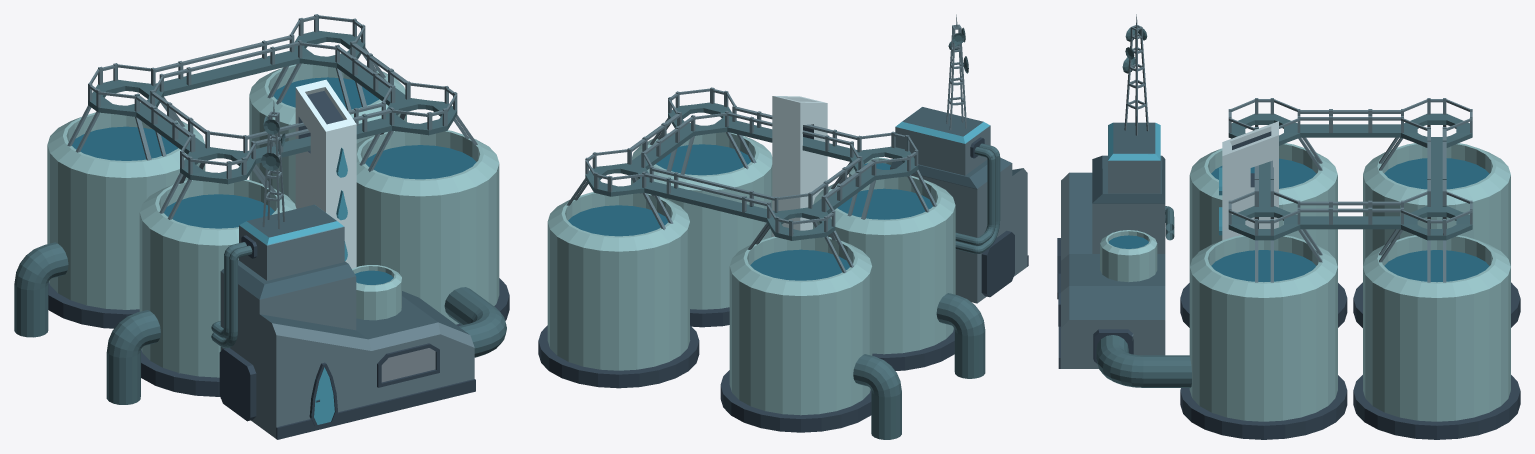
The model's file is Water Treatment Building.fbx.
3 renders of one model, left to right at view 1: azimuth 30°, elevation 25°; view 2: azimuth 150°, elevation 25°; view 3: azimuth 270°, elevation 25°, orthographic. The views are drawn at different scales.
Parts seen in each view (by area): view 1: Cube.003, Cylinder.001, Cube.002, Cylinder.002, Cylinder, Cube.001, Cylinder.003, Cylinder.007, Cylinder.006, Cylinder.005, Cylinder.004, Cube.004 (+3 smaller); view 2: Cylinder.003, Cylinder.002, Cube.002, Cylinder, Cube.003, Cylinder.001, Cube.001, Cylinder.006, Cylinder.007, decorative pipe 1.002, radio tower.001, decorative pipe 1.001; view 3: Cylinder.003, Cylinder.001, Cube.003, Cube.002, Cylinder.002, Cylinder, Cube.001, Cylinder.005, Cylinder.004, radio tower.001.
Boxes of the visible parts, x1,y1,x2,y2 form: Cube.003: [219, 204, 475, 439]; Cylinder.001: [356, 130, 509, 326]; Cube.002: [67, 14, 477, 219]; Cylinder.002: [47, 112, 205, 328]; Cylinder: [139, 179, 296, 396]; Cube.001: [295, 79, 356, 268]; Cylinder.003: [249, 63, 406, 205]; Cylinder.007: [14, 242, 68, 337]; Cylinder.006: [106, 310, 160, 404]; Cylinder.005: [444, 287, 506, 357]; Cylinder.004: [352, 265, 401, 320]; Cube.004: [309, 362, 337, 426]; Cylinder.003: [538, 192, 699, 388]; Cylinder.002: [720, 236, 872, 432]; Cube.002: [566, 87, 936, 272]; Cylinder: [813, 176, 955, 370]; Cube.003: [847, 107, 1028, 303]; Cylinder.001: [631, 132, 772, 327]; Cube.001: [772, 96, 827, 236]; Cylinder.006: [936, 293, 985, 378]; Cylinder.007: [853, 354, 901, 439]; decorative pipe 1.002: [955, 147, 995, 245]; radio tower.001: [946, 14, 966, 130]; decorative pipe 1.001: [955, 143, 1000, 253]; Cylinder.003: [1353, 235, 1520, 439]; Cylinder.001: [1180, 235, 1347, 439]; Cube.003: [1058, 122, 1165, 368]; Cube.002: [1228, 98, 1472, 282]; Cylinder.002: [1353, 143, 1520, 327]; Cylinder: [1180, 143, 1347, 327]; Cube.001: [1222, 121, 1278, 240]; Cylinder.005: [1096, 335, 1191, 387]; Cylinder.004: [1100, 230, 1157, 282]; radio tower.001: [1124, 14, 1148, 135].
Bounding box in the file's own units: 1927 × 1551 × 2120.
